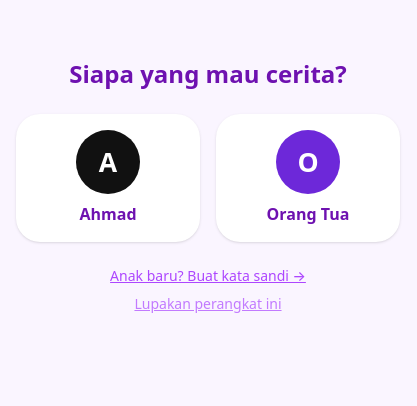
Test: family login (lobby-first) › a wrong child password shows an error and stays on the prompt
Step 1. Click the text "Ahmad" → (108, 214), box 80,202 -> 137,226
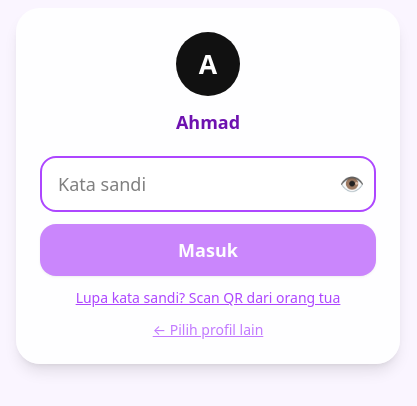
Step 2. Type "salah" into the password field with placeholder "Kata sandi" → (208, 184), box 40,156 -> 376,212
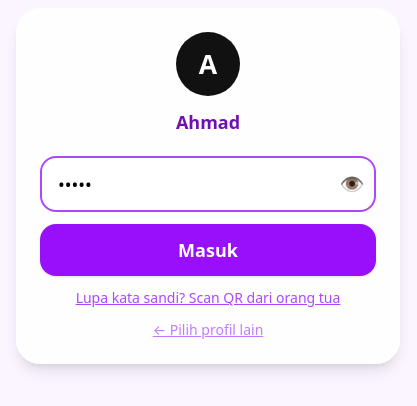
Step 3. Click the button "Masuk" → (208, 250), box 40,224 -> 376,276
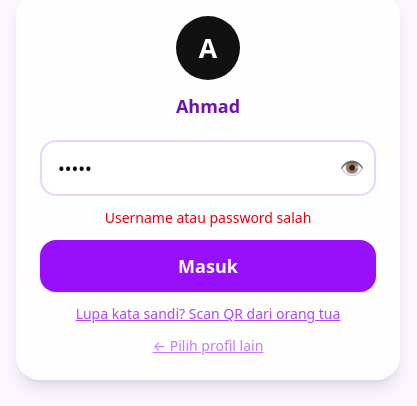
Result: the button "← Pilih profil lain" is shown at 40,336 -> 376,356
Result: the text "Username atau password salah" is shown at 105,208 -> 311,227
